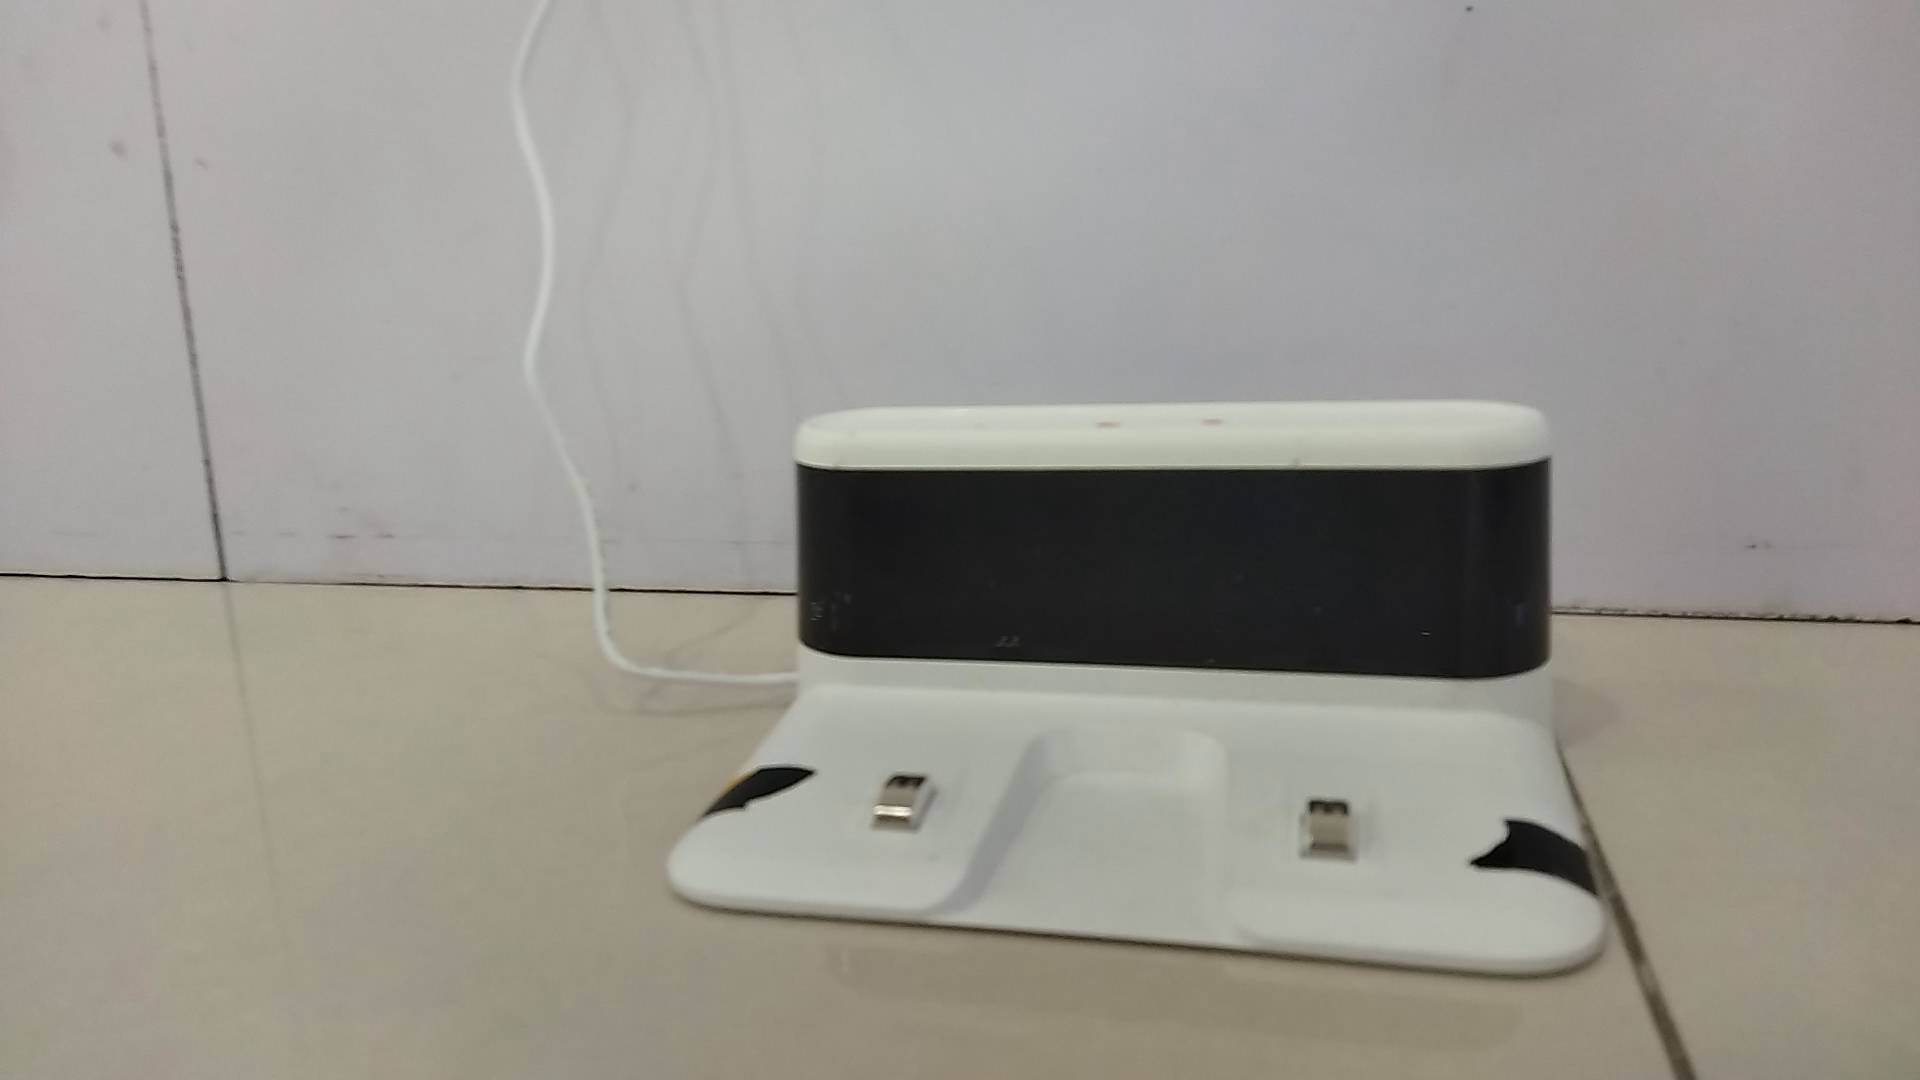recharge seat: (659, 401, 1611, 978)
